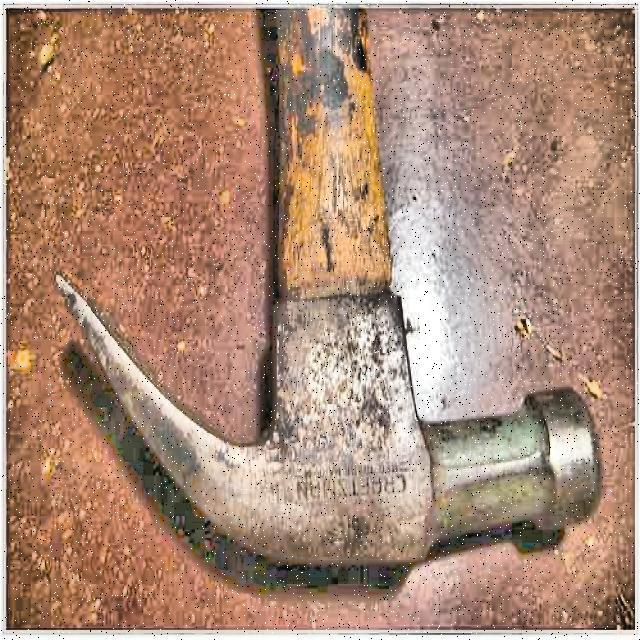hammer: (50, 0, 608, 568)
